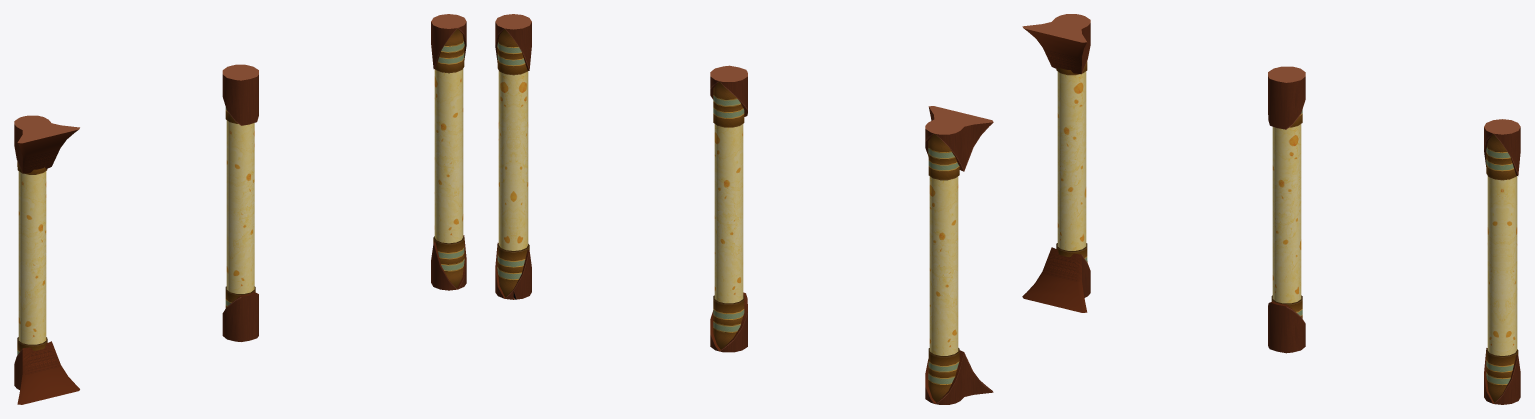
File: LibraryLightPillars.FBX
3 views of the same model, side by side, from view 1: azimuth 30°, elevation 25°; view 2: azimuth 150°, elevation 25°; view 3: azimuth 330°, elevation 25° (orthographic). The views are drawn at different scales.
Visible parts, largest first — view 1: IceMazePillar03, IceMazePillar01, IceMazePillar02; view 2: IceMazePillar03, IceMazePillar01, IceMazePillar02; view 3: IceMazePillar03, IceMazePillar01, IceMazePillar02.
Boxes of the visible parts, x1,y1,x2,y2 form: IceMazePillar03: (14,115,79,404); IceMazePillar01: (431,14,466,290); IceMazePillar02: (222,64,258,341); IceMazePillar03: (925,106,993,404); IceMazePillar01: (495,14,531,299); IceMazePillar02: (710,65,747,352); IceMazePillar03: (1022,14,1090,312); IceMazePillar01: (1484,119,1520,404); IceMazePillar02: (1268,66,1305,353).
Bounding box in the file's own units: 11.13 × 6 × 1.14.
